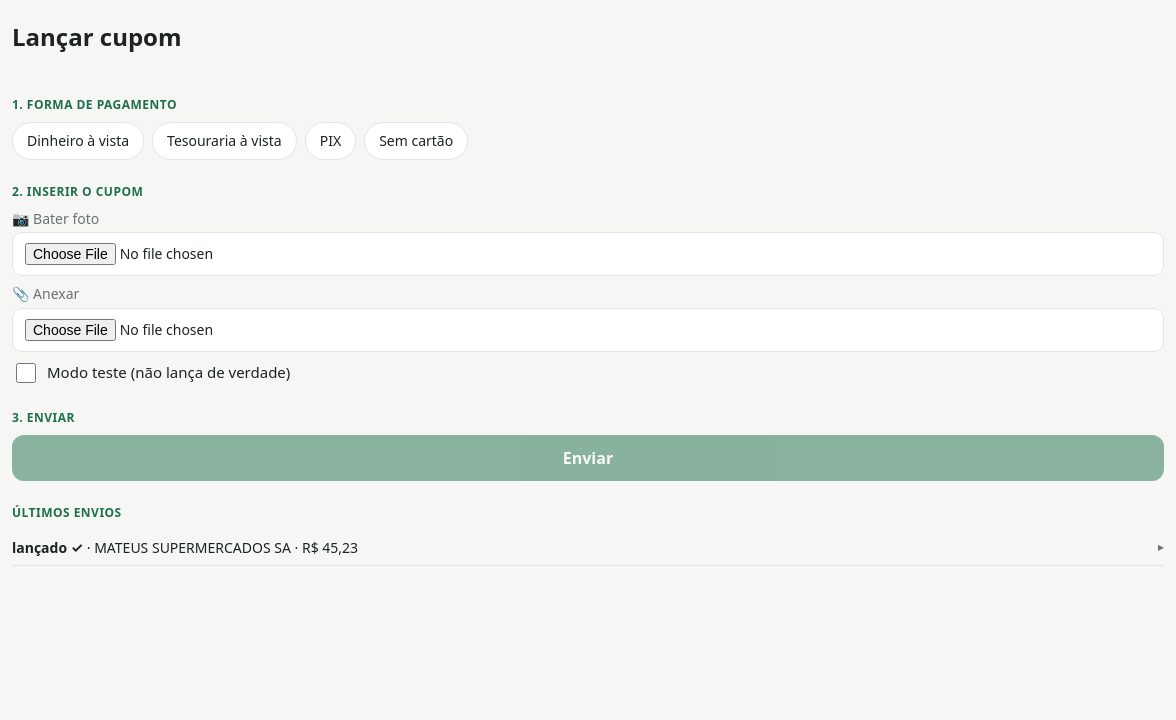
Cupom — "Lançado em" no detalhe do cupom lançado › o horário é o do LANÇAMENTO (atualizado_em), não o do envio da foto (criado_em)
This screenshot has width=1176, height=720.
Click the button "lançado ✓ · MATEUS SUPERMERCADOS SA · R$ 45,23 ▸" at (48, 547), box [12,530,1164,565]
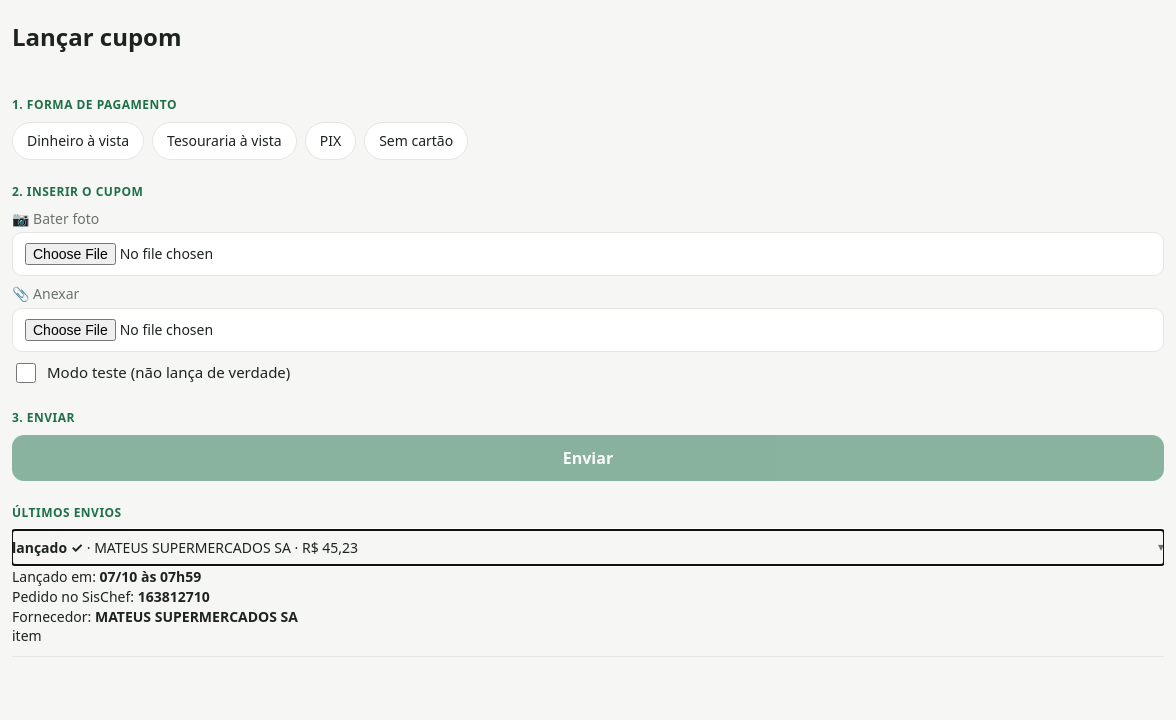
Expected: the element with test id "detalhe-quando" reads "Lançado em: 07/10 às 07h59", [12,567,201,586]
